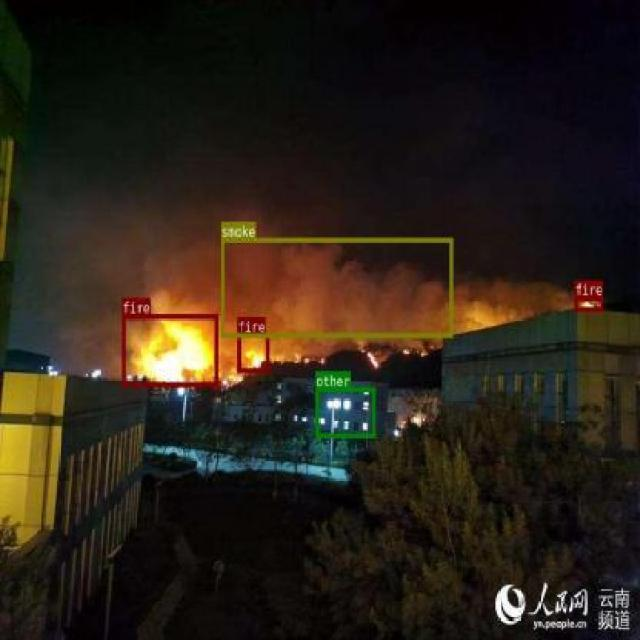Fire: (121, 314, 216, 386), (236, 332, 269, 372), (574, 295, 602, 311)
Smoke: (220, 238, 452, 336)
